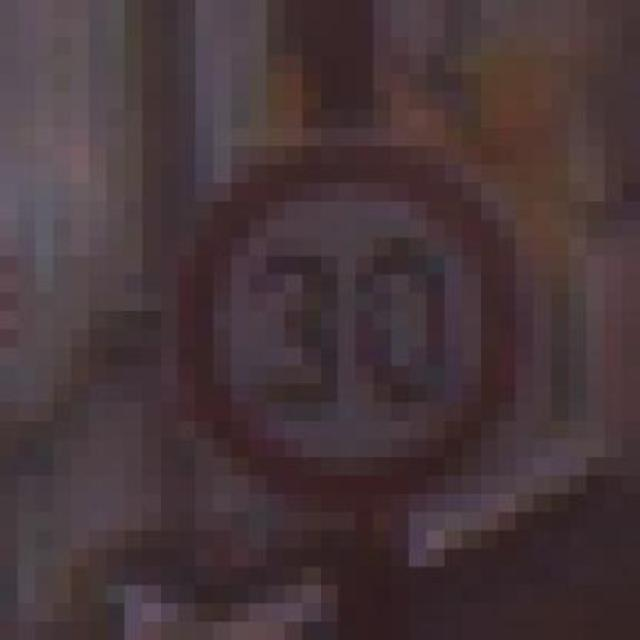Speed Limit 30 KMPh: (124, 128, 551, 586)
